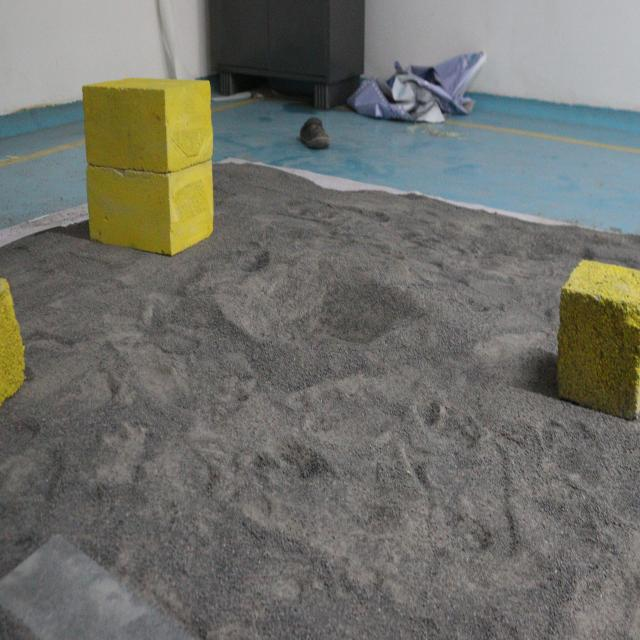box: (80, 75, 216, 264), (556, 248, 640, 435)
crater: (211, 235, 424, 368)
